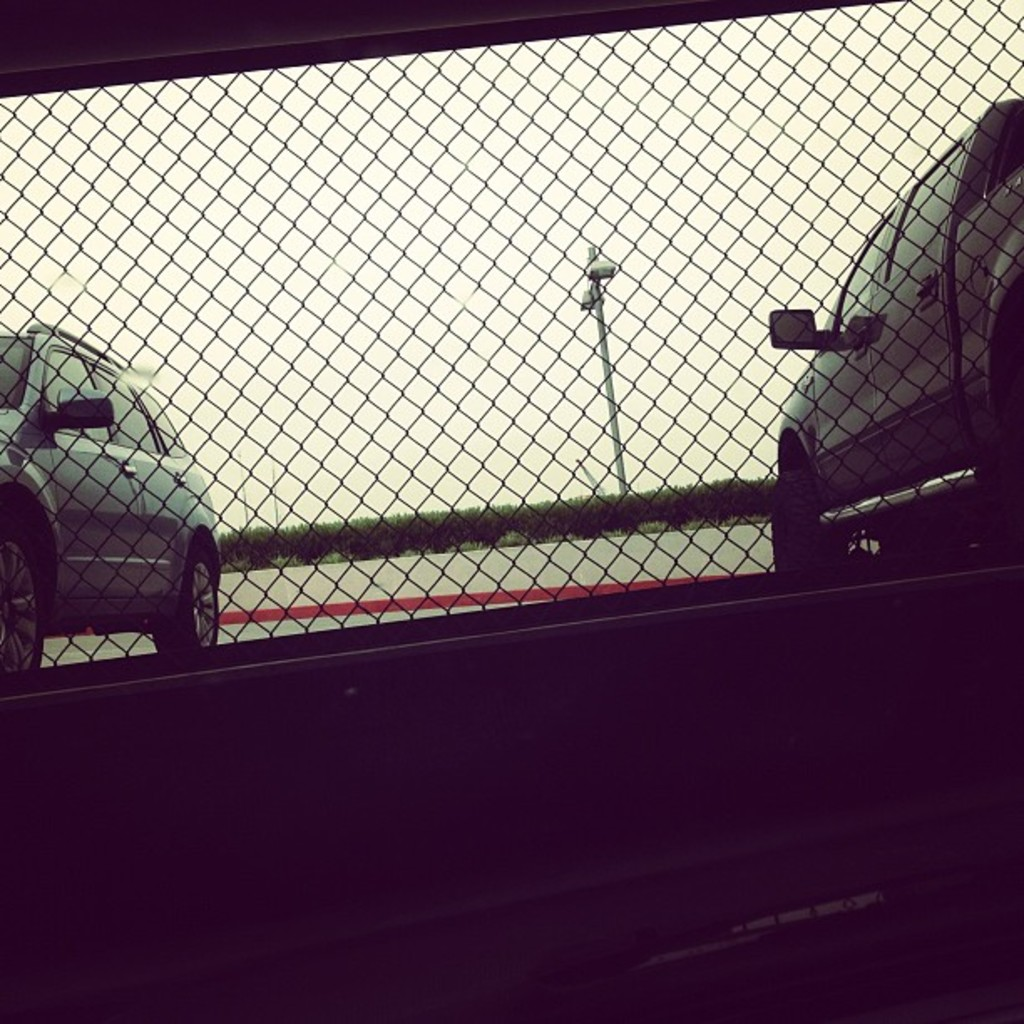Car: (766, 93, 1022, 573), (10, 319, 240, 655)
